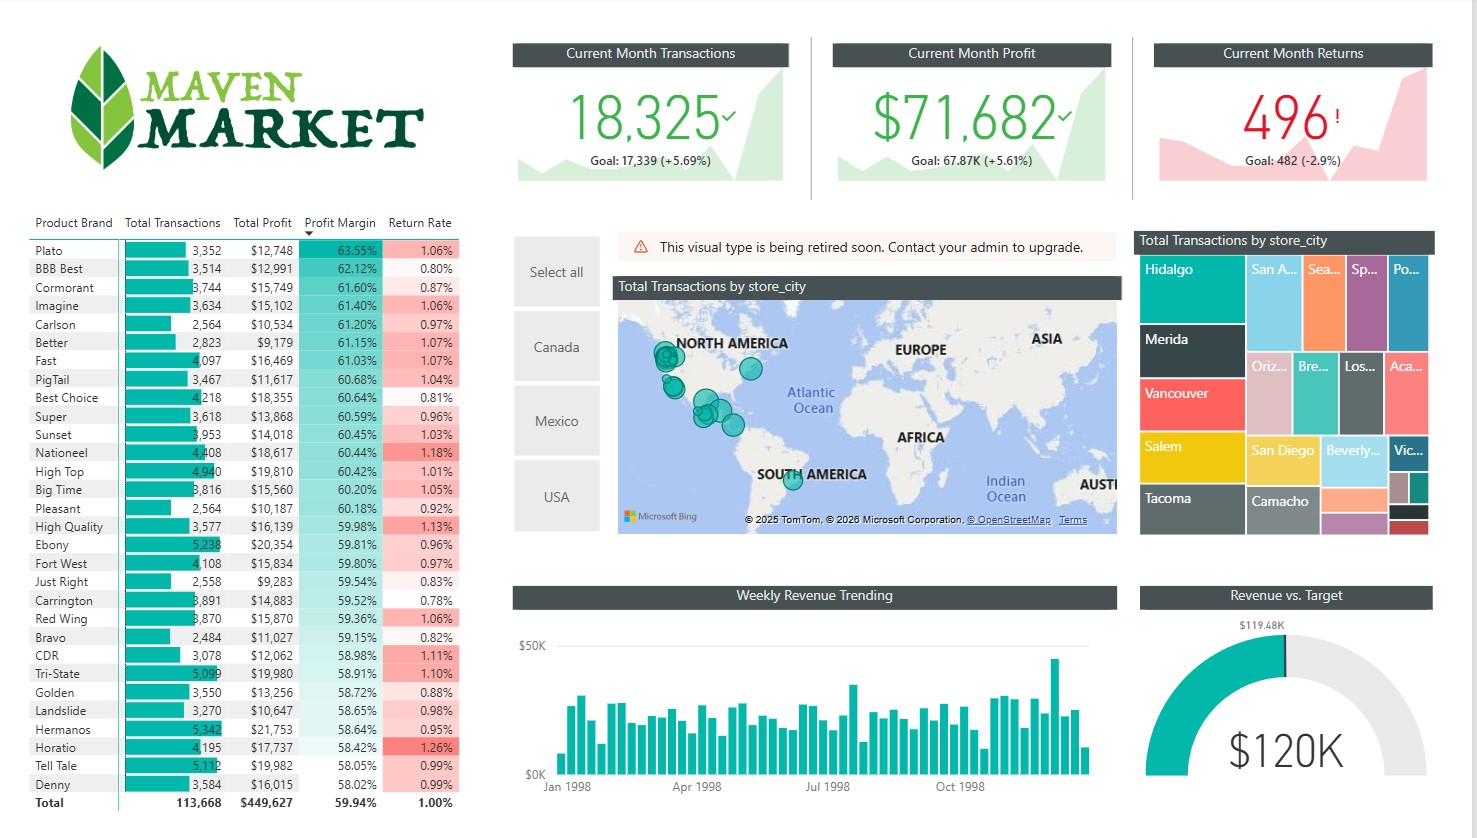

The page's visual inventory and layout, read from the dashboard file:
{"tool":"powerbi","page":{"name":"Topline Performance","canvas":[1280,720],"ordinal":0},"visuals":[{"type":"image","box":[40,7.5,346.6,132.7],"z":0},{"type":"pivotTable","fields":{"Values":["Transaction_Data.Total Transactions","Transaction_Data.Total Profit","Transaction_Data.Profit Margin","Return_Data.Return Rate"],"Rows":["Products.product_brand"]},"box":[20.6,161.3,401.5,536],"z":1000},{"type":"kpi","title":"Current Month Transactions","fields":{"TrendLine":["Calendar.Start of Month"],"Goal":["Transaction_Data.Last Month Transactions"],"Indicator":["Transaction_Data.Total Transactions"]},"box":[445.9,19,240.2,124.7],"z":2000},{"type":"kpi","title":"Current Month Profit","fields":{"TrendLine":["Calendar.Start of Month"],"Goal":["Transaction_Data.Last Month Profit"],"Indicator":["Transaction_Data.Total Profit"]},"box":[723.3,19,242.5,124.7],"z":3000},{"type":"kpi","title":"Current Month Returns","fields":{"TrendLine":["Calendar.Start of Month"],"Goal":["Return_Data.Last Month Returns"],"Indicator":["Return_Data.Total Returns"]},"box":[1003,19,242.5,124.7],"z":4000},{"type":"map","fields":{"Category":["Stores.store_city"],"Size":["Transaction_Data.Total Transactions"]},"box":[532.8,182.5,442.7,266.5],"z":5000},{"type":"slicer","fields":{"Values":["Stores.store_country"]},"box":[420.5,178.9,124.7,270],"z":6000},{"type":"columnChart","title":"Weekly Revenue Trending","fields":{"Category":["Calendar.Start of Week"],"Y":["Transaction_Data.Total Revenue"]},"box":[445.9,490,525.3,192.2],"z":7000},{"type":"gauge","title":"Revenue vs. Target","fields":{"Y":["Transaction_Data.Total Revenue"],"TargetValue":["Transaction_Data.Revenue Target"]},"box":[991.1,490,254.4,171.6],"z":8000},{"type":"basicShape","box":[671.7,2.9,67.5,161.3],"z":9000},{"type":"basicShape","box":[950.3,2.9,67.5,161.3],"z":10000},{"type":"treemap","fields":{"Group":["Stores.store_country","Stores.store_state","Stores.store_city"],"Values":["Transaction_Data.Total Transactions"]},"box":[985.8,181.4,261.9,270],"z":11000}]}

Visuals, with their boxes in screenshot pixels (x1, y1, x2, y2), scaled from the page's 1280x720 canvas onto the 1477x838 screenshot:
image: <bbox>46, 9, 446, 163</bbox>
pivotTable - Transaction_Data.Total Transactions x Transaction_Data.Total Profit: <bbox>24, 188, 487, 812</bbox>
"Current Month Transactions" kpi: <bbox>515, 22, 792, 167</bbox>
"Current Month Profit" kpi: <bbox>835, 22, 1114, 167</bbox>
"Current Month Returns" kpi: <bbox>1157, 22, 1437, 167</bbox>
map - Stores.store_city x Transaction_Data.Total Transactions: <bbox>615, 212, 1126, 523</bbox>
slicer - Stores.store_country: <bbox>485, 208, 629, 522</bbox>
"Weekly Revenue Trending" columnChart: <bbox>515, 570, 1121, 794</bbox>
"Revenue vs. Target" gauge: <bbox>1144, 570, 1437, 770</bbox>
basicShape: <bbox>775, 3, 853, 191</bbox>
basicShape: <bbox>1097, 3, 1174, 191</bbox>
treemap - Stores.store_country x Stores.store_state: <bbox>1138, 211, 1440, 525</bbox>
